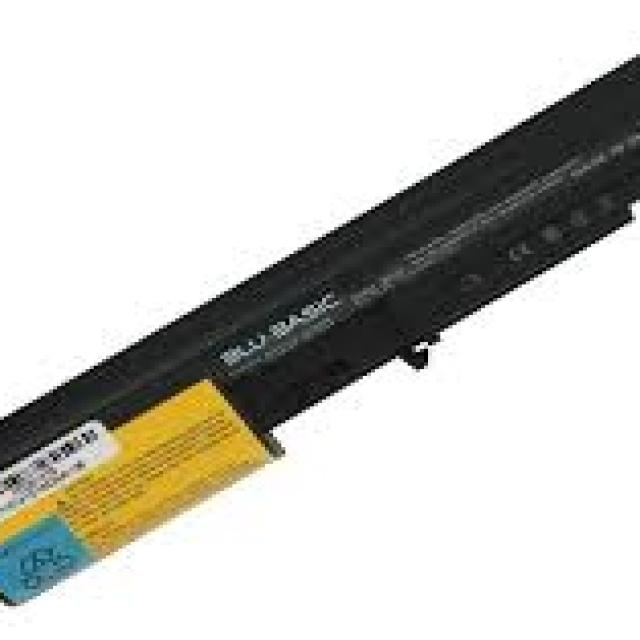organic: (5, 47, 637, 614)
